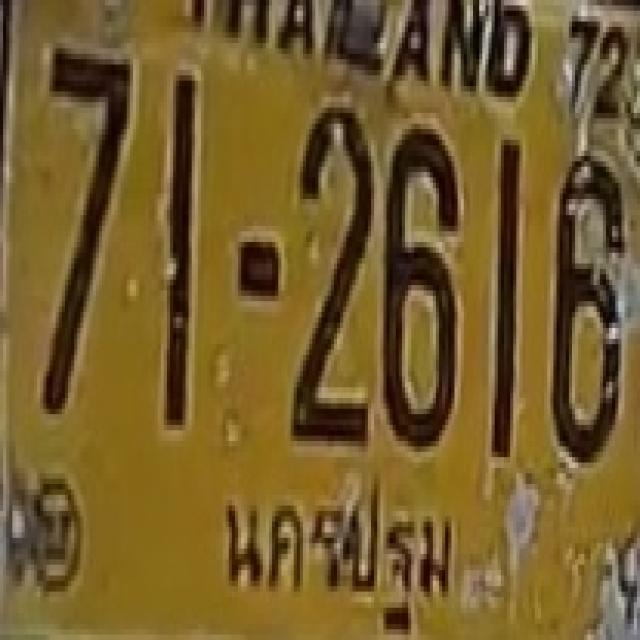1: (164, 70, 195, 403), (493, 140, 518, 457)
2: (291, 105, 371, 444)
6: (383, 126, 458, 449), (552, 153, 623, 465)
7: (41, 50, 135, 414)
NPT: (220, 466, 458, 639)
